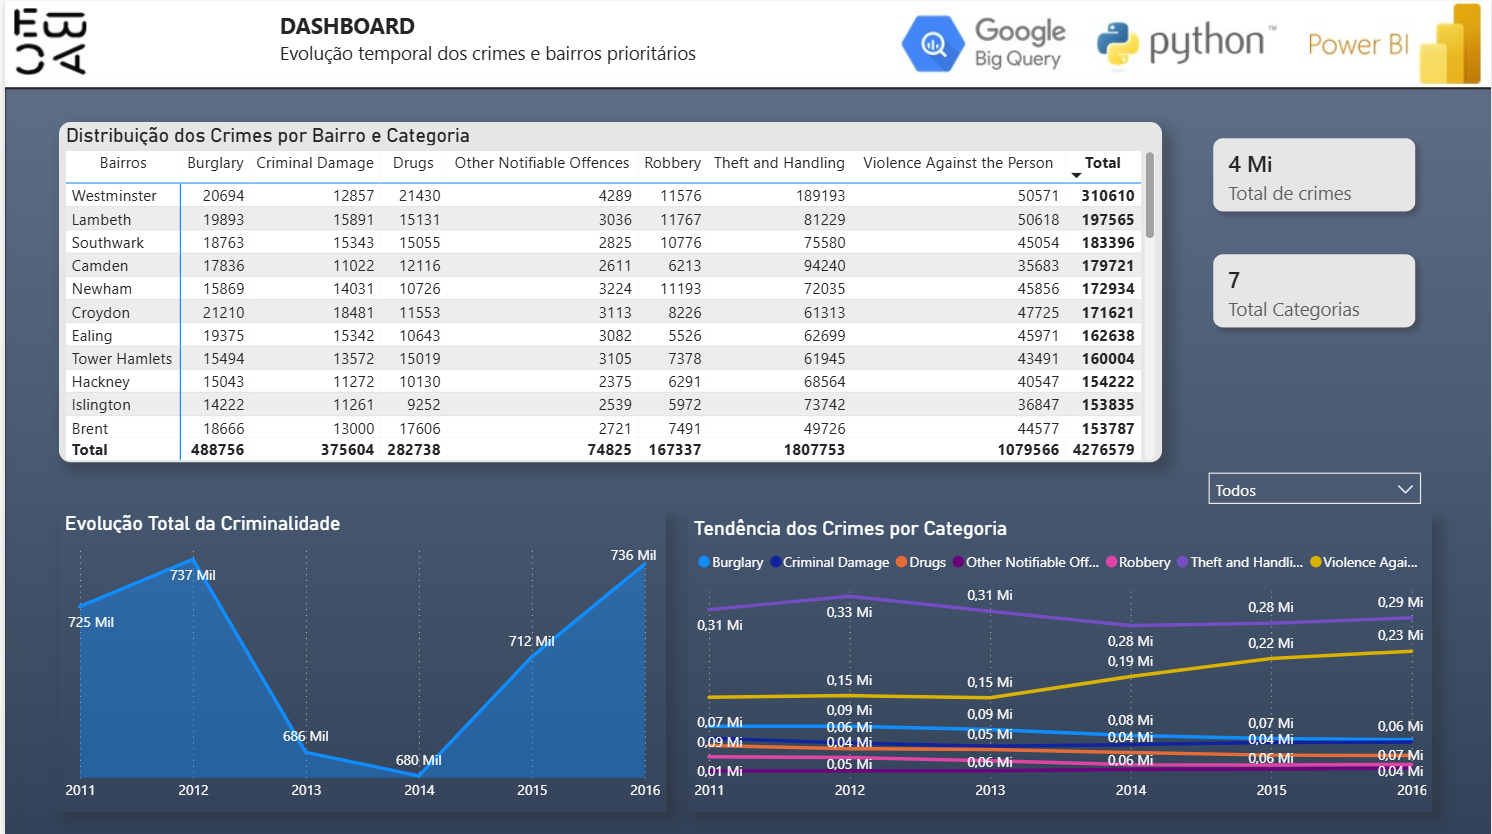

Layout of this report page (visuals, bound fields, positions):
{"tool":"powerbi","page":{"name":"Tendências ","canvas":[1280,720],"ordinal":1},"visuals":[{"type":"cardVisual","fields":{"Data":["ready.Total Crimes"]},"box":[1026.9,103.9,202.5,91.2],"z":0},{"type":"textbox","box":[231.2,3.8,380,66.2],"z":1000},{"type":"areaChart","title":"Evolução Total da Criminalidade","fields":{"Category":["ready.year"],"Y":["ready.Total Crimes"]},"box":[46.9,438.9,522.5,258.8],"z":2000},{"type":"cardVisual","fields":{"Data":["ready.Total Categorias"]},"box":[1026.9,203.9,202.5,91.2],"z":3000},{"type":"lineChart","title":"Tendência dos Crimes por Categoria","fields":{"Y":["ready.Total Crimes"],"Category":["ready.year"],"Series":["ready.major_category"]},"box":[588.1,438.9,641.2,258.8],"z":4000},{"type":"pivotTable","title":"Distribuição dos Crimes por Bairro e Categoria","fields":{"Rows":["ready.borough"],"Columns":["ready.major_category"],"Values":["Sum(ready.total_crimes)"]},"box":[46.9,103.9,950,292.5],"z":5000},{"type":"slicer","fields":{"Values":["ready.major_category"]},"box":[1026.9,396.4,202.5,53.8],"z":6000}]}

Visuals, with their boxes in screenshot pixels (x1, y1, x2, y2), scaled from the page's 1280x720 canvas onto the 1492x834 screenshot:
cardVisual - ready.Total Crimes: [left=1197, top=120, right=1433, bottom=226]
textbox: [left=269, top=4, right=712, bottom=81]
"Evolução Total da Criminalidade" areaChart: [left=55, top=508, right=664, bottom=808]
cardVisual - ready.Total Categorias: [left=1197, top=236, right=1433, bottom=342]
"Tendência dos Crimes por Categoria" lineChart: [left=686, top=508, right=1433, bottom=808]
"Distribuição dos Crimes por Bairro e Categoria" pivotTable: [left=55, top=120, right=1162, bottom=459]
slicer - ready.major_category: [left=1197, top=459, right=1433, bottom=521]
